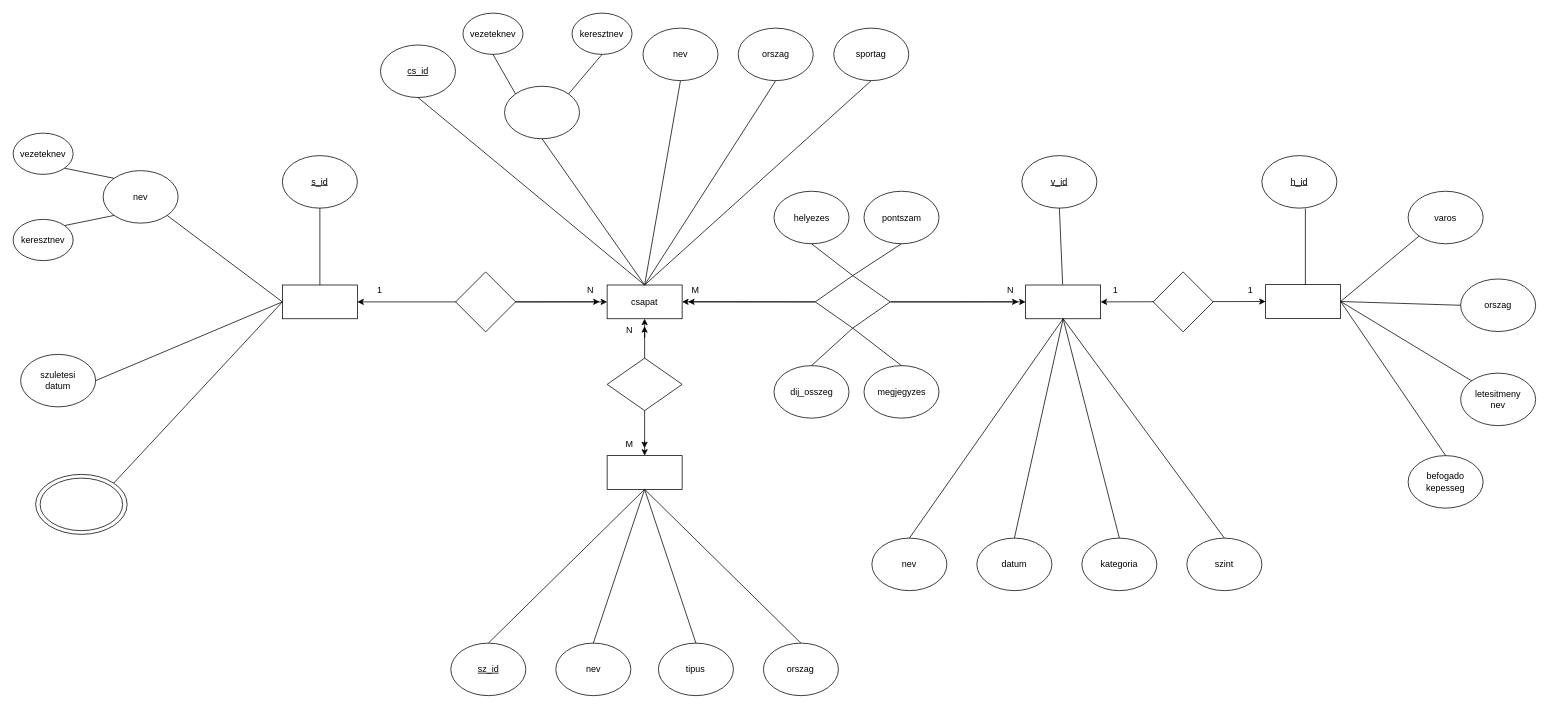
Image size: 1549x709. Some labels were removed from this diagram. The shapes that lost their labels are listed below. From the top down, each one's centre as x and y in pixels, then its label:
At (x=542, y=112): "edzo_nev".
At (x=319, y=301): "sportolo".
At (x=485, y=301): "CS_S".
At (x=852, y=301): "reszvetel".
At (x=1063, y=301): "verseny".
At (x=1182, y=301): "V_H".
At (x=1303, y=301): "helyszin".
At (x=644, y=384): "SZ_CS".
At (x=644, y=472): "szponzor".
At (x=81, y=504): "elert eredmenyek".
